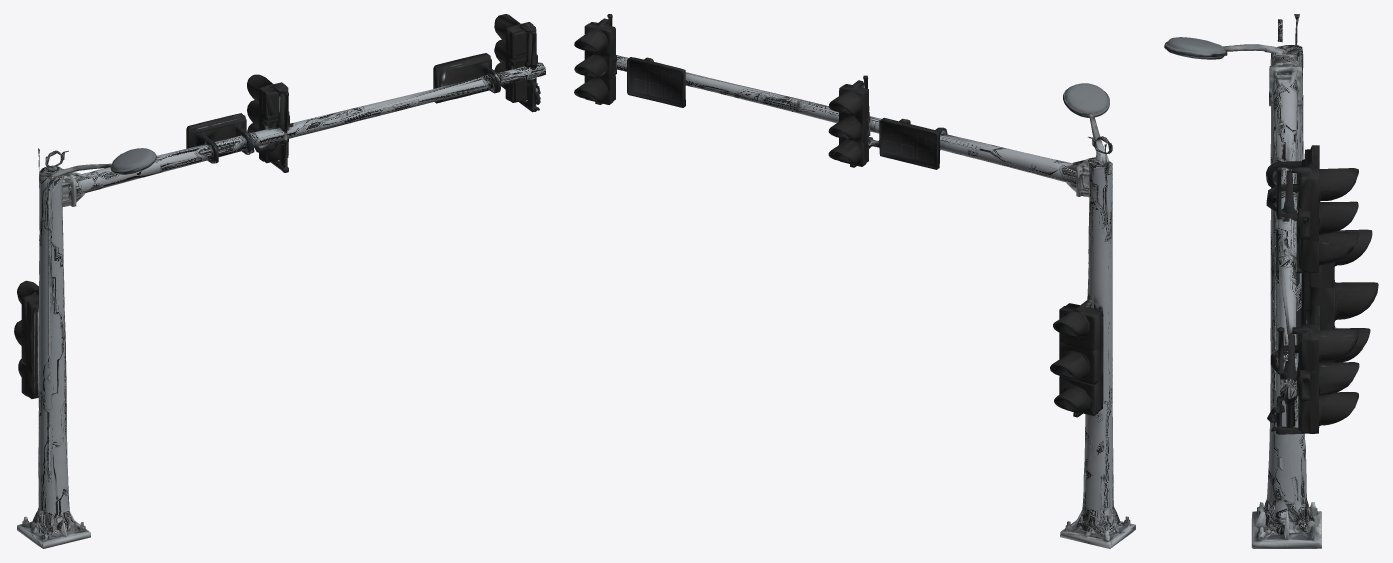
File: traffic-signal.optimized.glb
The picture shows the model from 3 angles, left to right: view 1: azimuth 30°, elevation 25°; view 2: azimuth 150°, elevation 25°; view 3: azimuth 270°, elevation 25°; orthographic projection. The views are drawn at different scales.
Parts seen in each view (by area): view 1: pole, arm, head_b_body, head_a_body, head_low_body, head_a_countdown, head_b_countdown; view 2: pole, arm, head_low_body, head_b_body, head_a_body, head_a_countdown, head_b_countdown; view 3: pole, head_b_body, head_a_body, arm, head_low_body, head_a_countdown.
Boxes of the visible parts, box(x1,y1,x2,y2) form: pole: box(17, 148, 156, 548); arm: box(68, 62, 545, 196); head_b_body: box(484, 14, 540, 112); head_a_body: box(247, 74, 289, 172); head_low_body: box(14, 280, 38, 398); head_a_countdown: box(186, 113, 254, 163); head_b_countdown: box(433, 53, 491, 103); pole: box(1060, 83, 1135, 548); arm: box(616, 55, 1084, 186); head_low_body: box(1050, 299, 1103, 417); head_b_body: box(574, 14, 653, 104); head_a_body: box(828, 75, 879, 167); head_a_countdown: box(879, 118, 947, 169); head_b_countdown: box(627, 57, 685, 107); pole: box(1164, 14, 1321, 548); head_b_body: box(1267, 323, 1359, 434); head_a_body: box(1275, 163, 1358, 273); arm: box(1272, 78, 1298, 398); head_low_body: box(1301, 229, 1378, 362); head_a_countdown: box(1266, 145, 1319, 211).
Size of the model in its own units: 8.98 by 6.6 by 2.44.
1 material, 1 textured.
